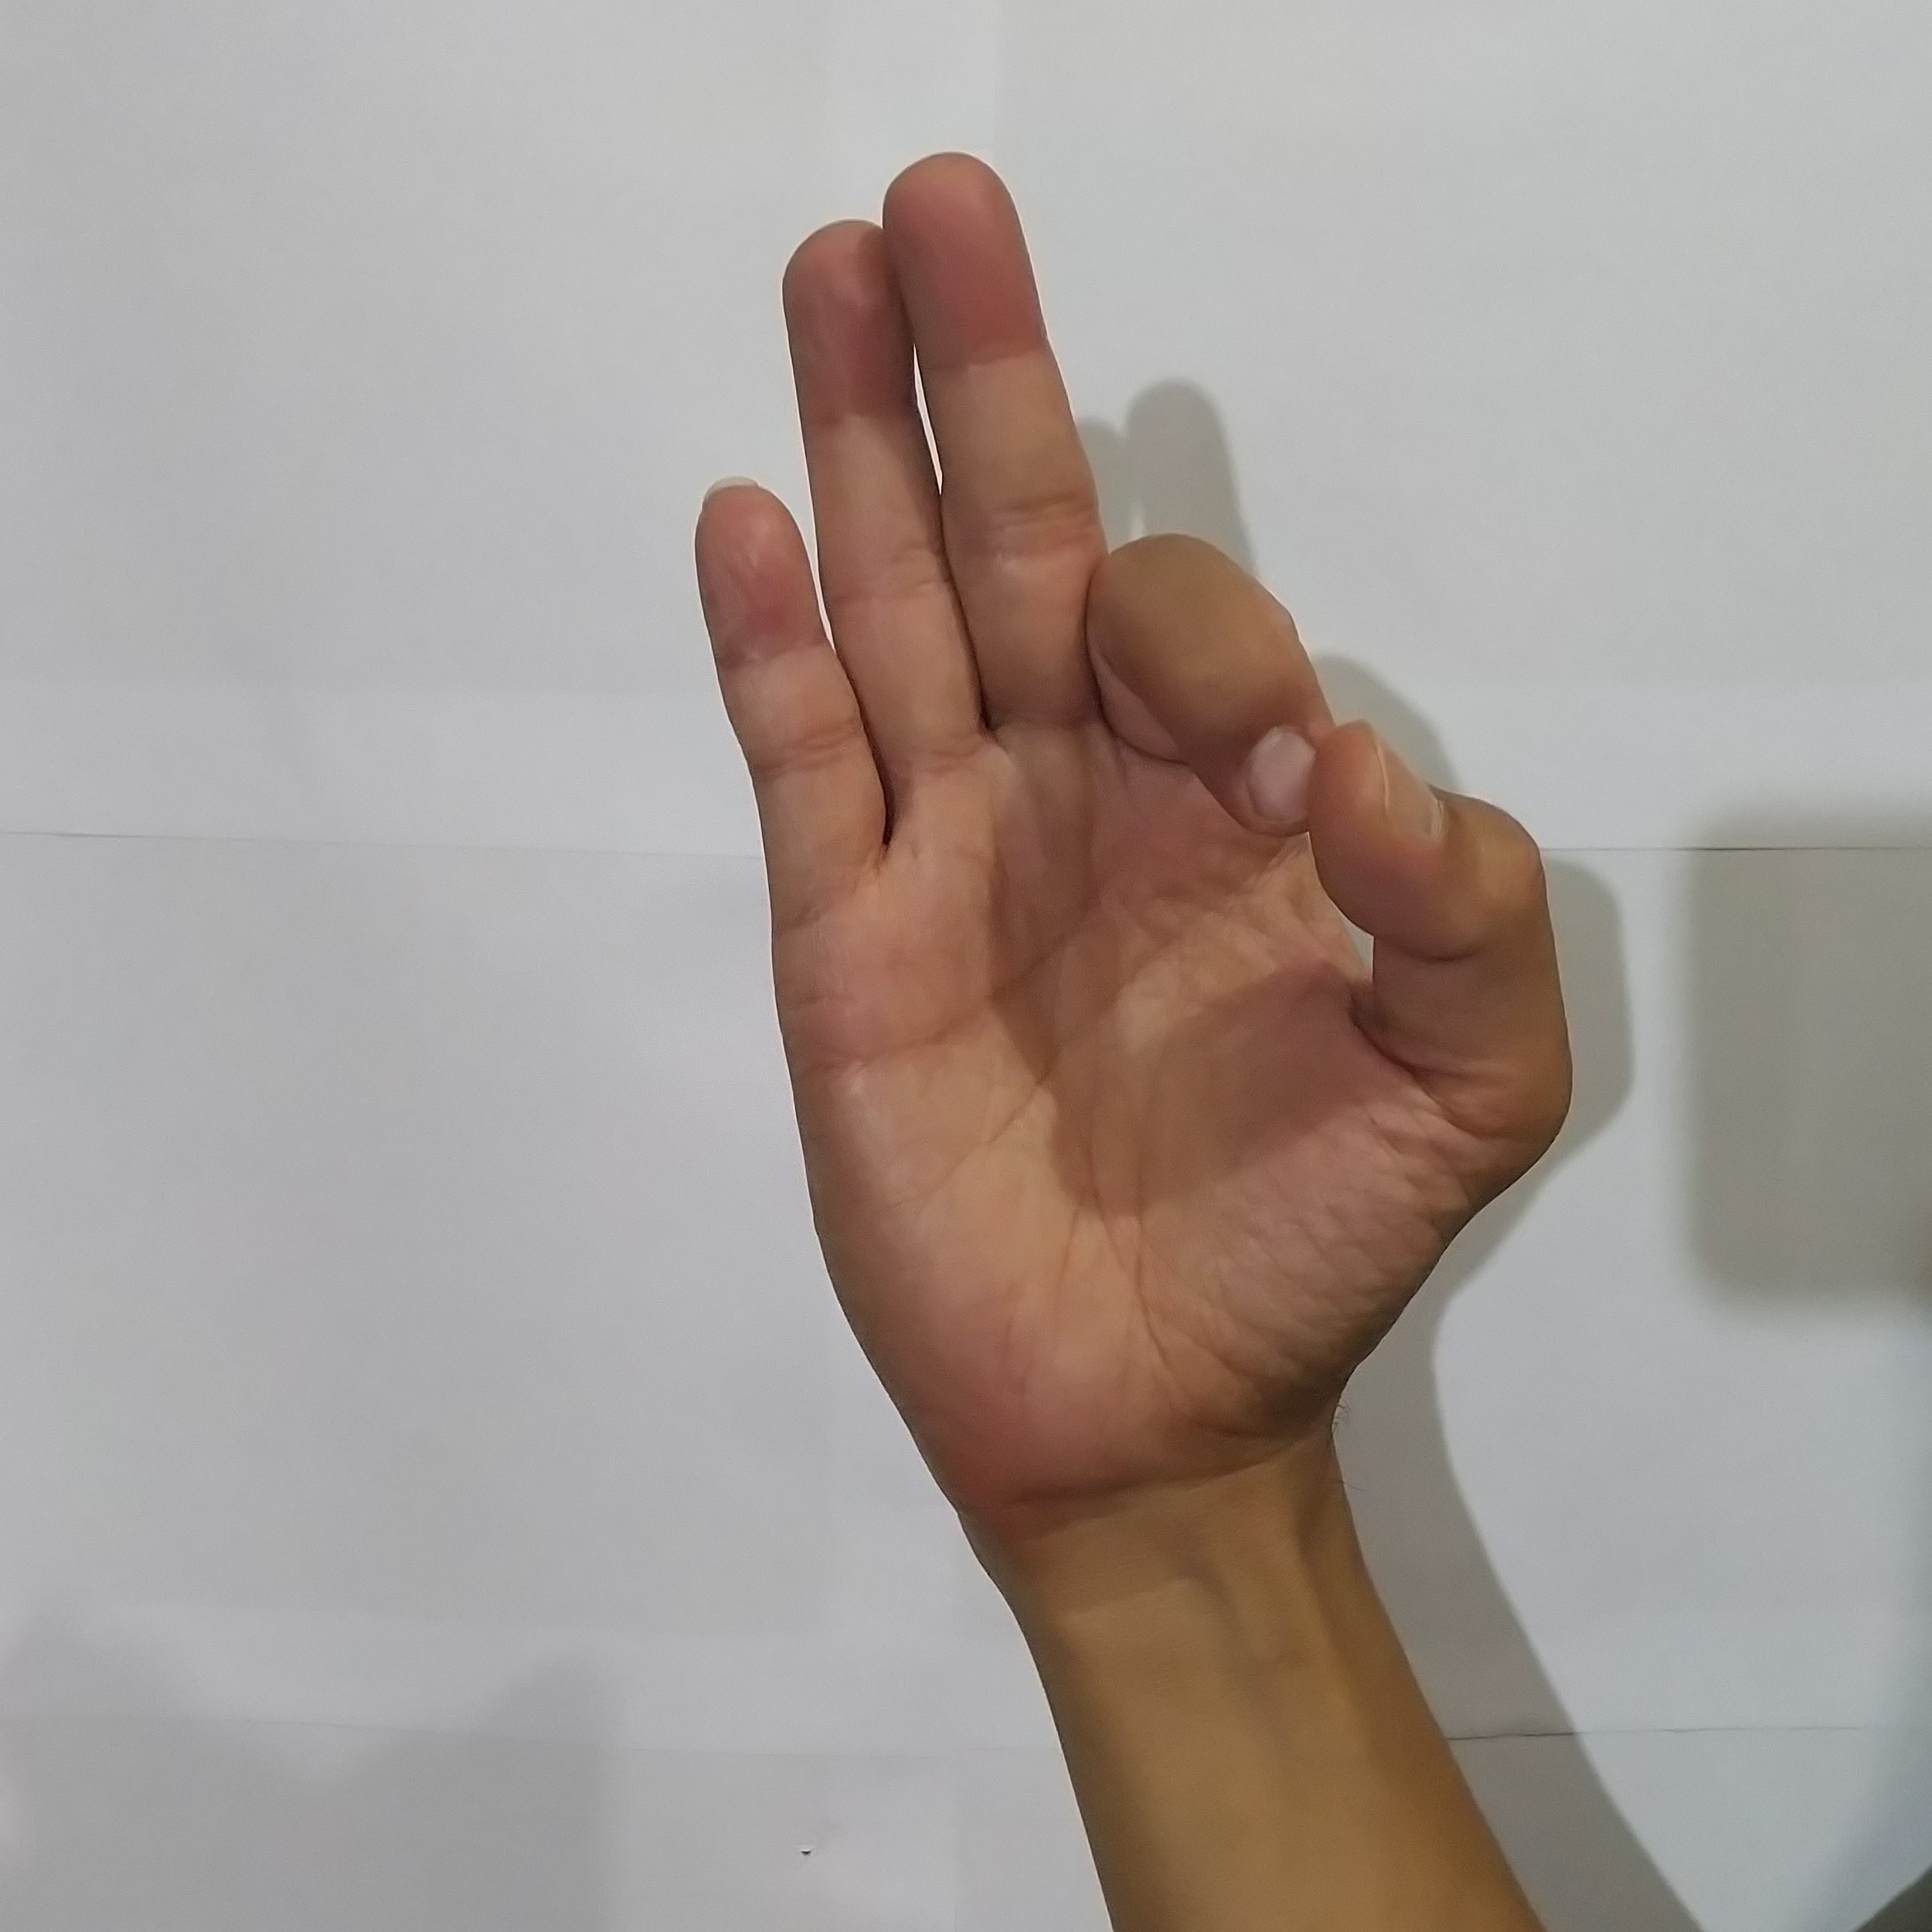F: (672, 133, 1594, 1431)
